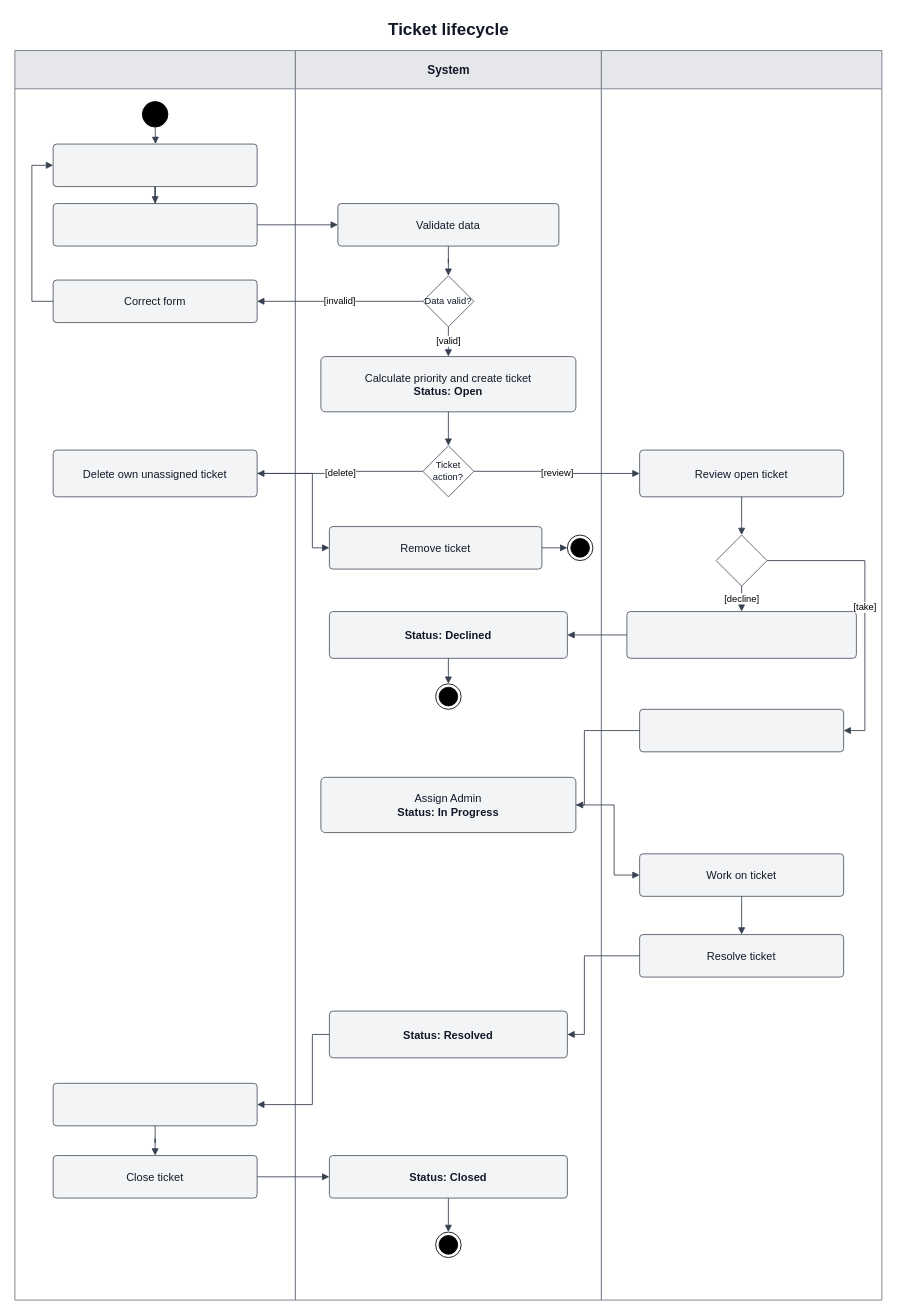
Image size: 897x1315. Some labels were removed from this diagram. Each missing label, with the box of its shape:
Admin: (601, 50, 882, 1300)
Decision?: (715, 534, 767, 586)
Enter reason and decline: (626, 611, 856, 658)
Fill ticket form: (52, 143, 257, 187)
Review resolution: (52, 1082, 257, 1126)
Submit ticket: (52, 203, 257, 246)
Take ticket: (639, 708, 844, 752)
Worker: (14, 50, 295, 1300)
